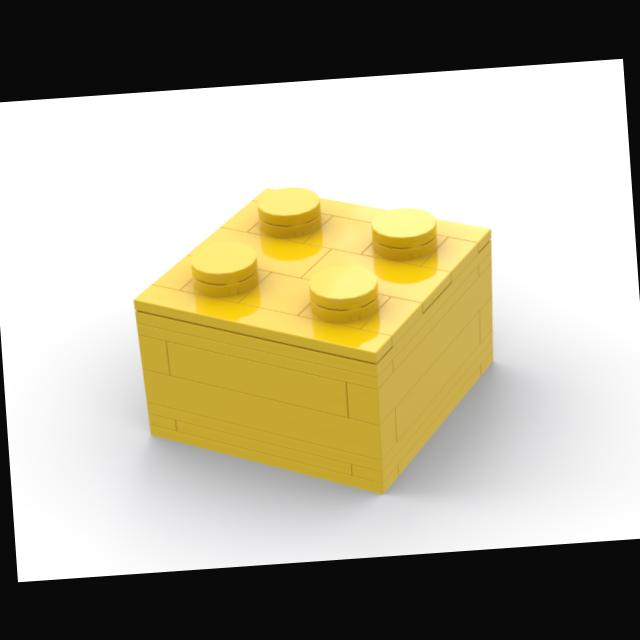2x2: (134, 188, 492, 492)
